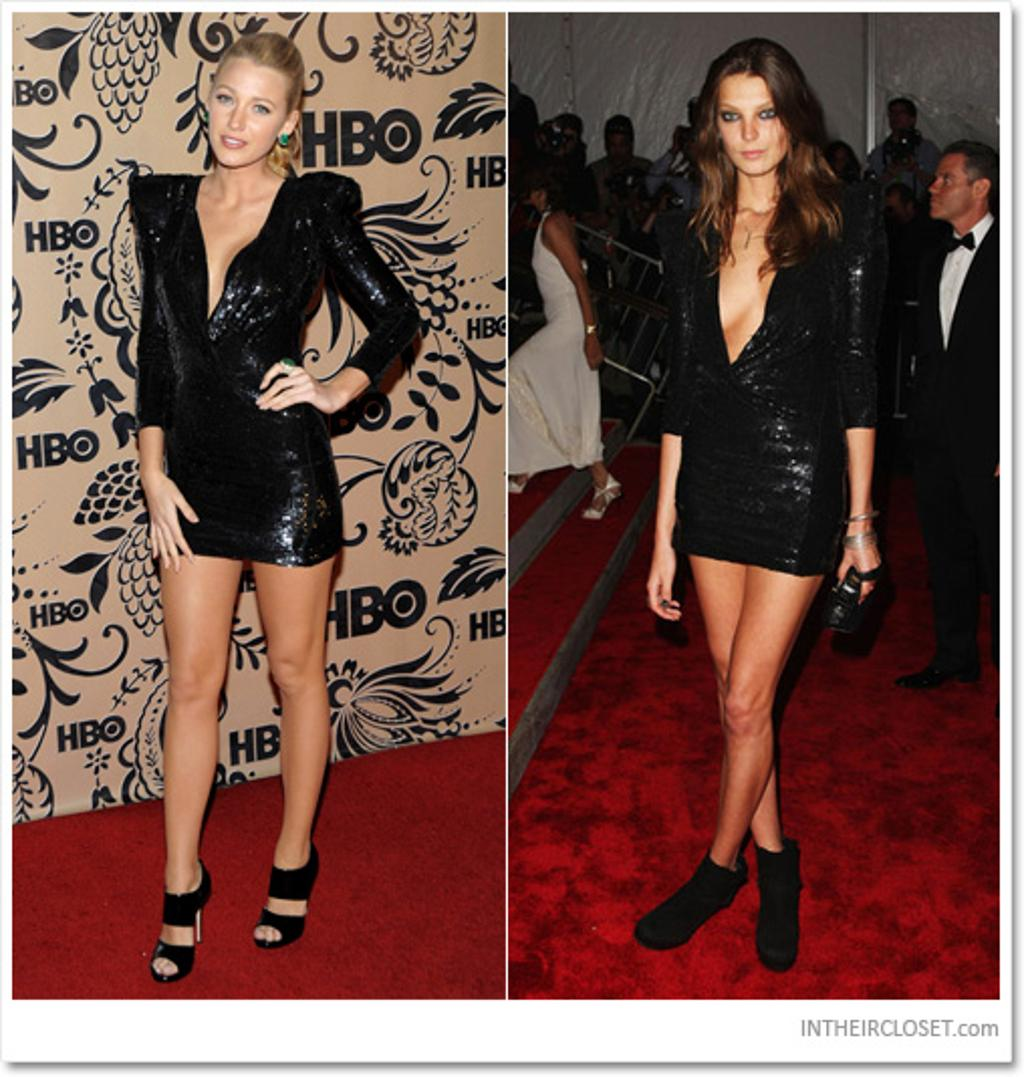face: (208, 61, 283, 166), (716, 80, 790, 174), (930, 162, 973, 217)
